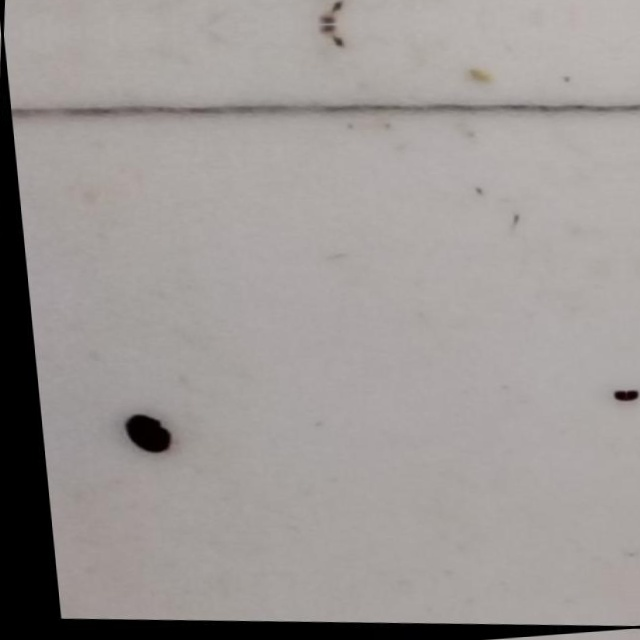varroa: (112, 416, 169, 463)
